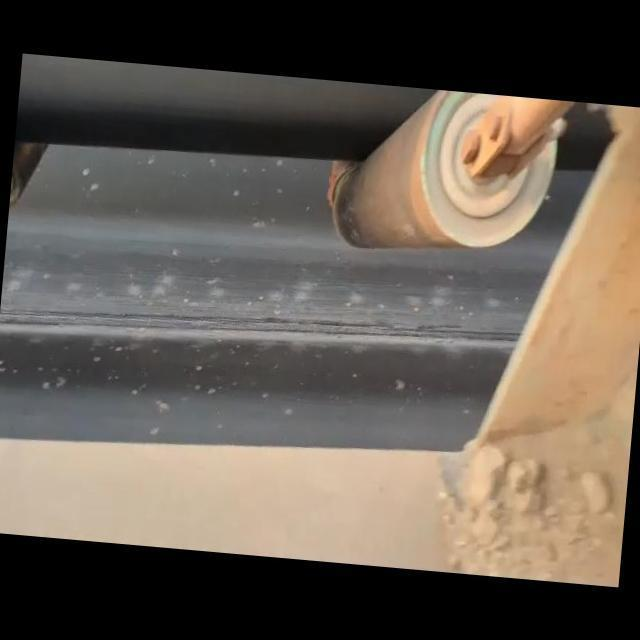Wear: (0, 308, 523, 344)
